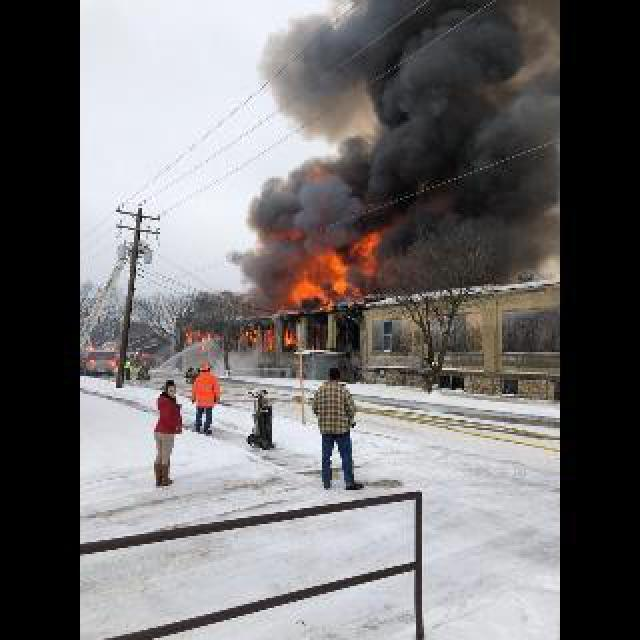Fire: (284, 232, 376, 308), (282, 328, 296, 344), (244, 330, 258, 344), (196, 330, 212, 340)
Smoke: (234, 4, 378, 230), (224, 232, 284, 316)
